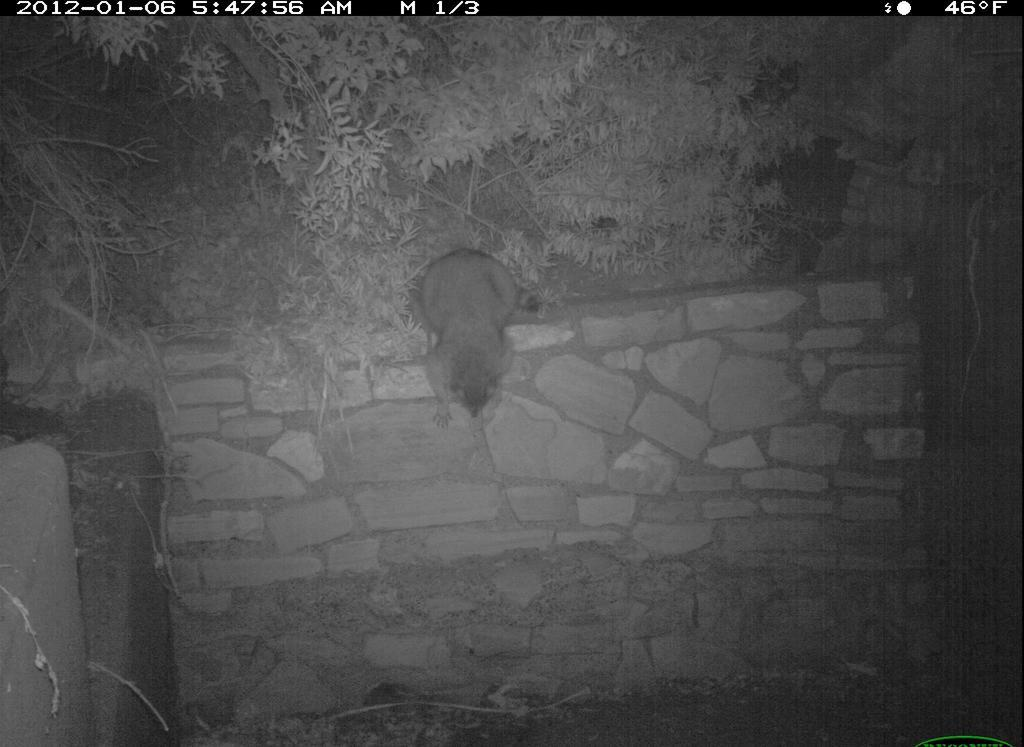raccoon: (409, 232, 530, 433)
